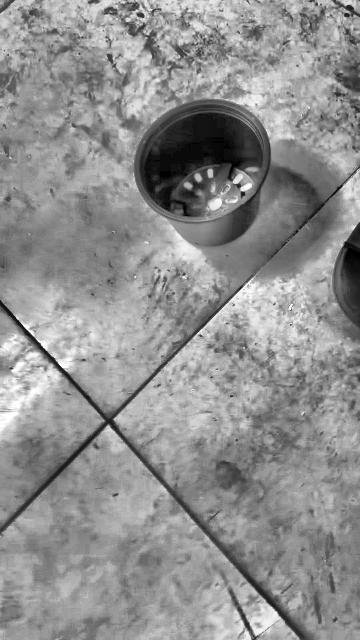pot: (135, 99, 272, 246)
